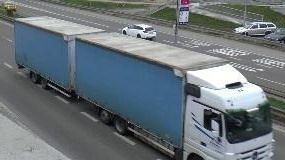car: (236, 22, 277, 36), (122, 24, 157, 40), (265, 28, 285, 42)
